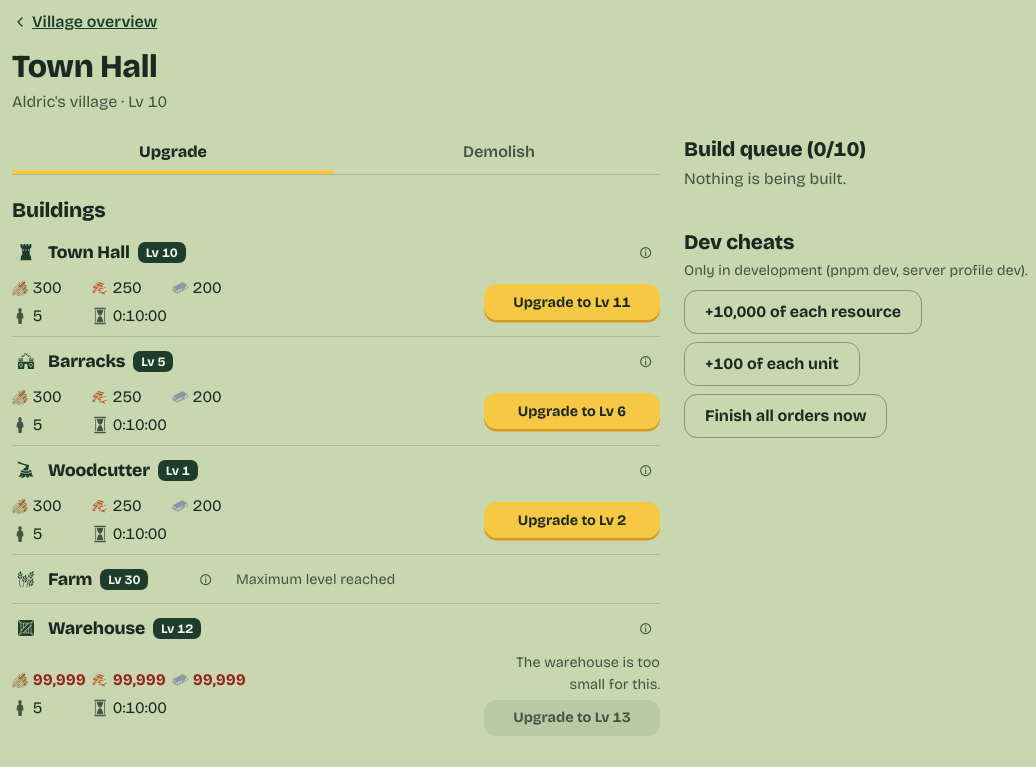
Test case: TownHallPage › switches to the demolish list
Click the button "Demolish": (499, 152) [338, 130, 660, 174]
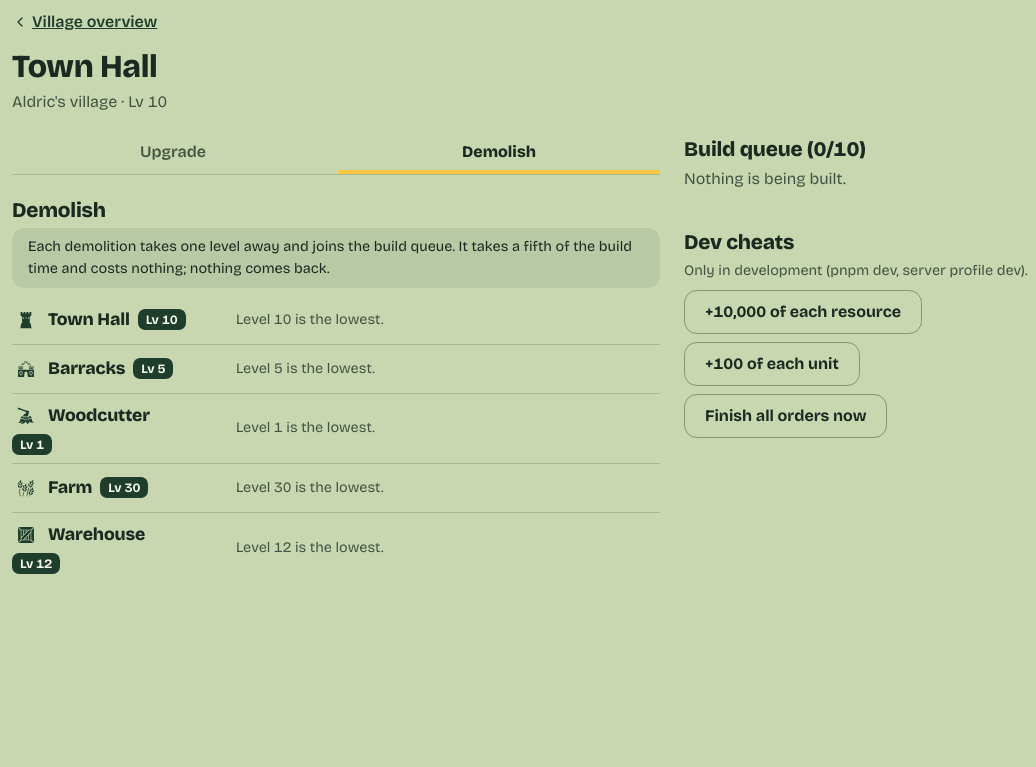
Expected: the heading "Not available yet" is not shown
Now the button "Upgrade to Lv 6" is gone
